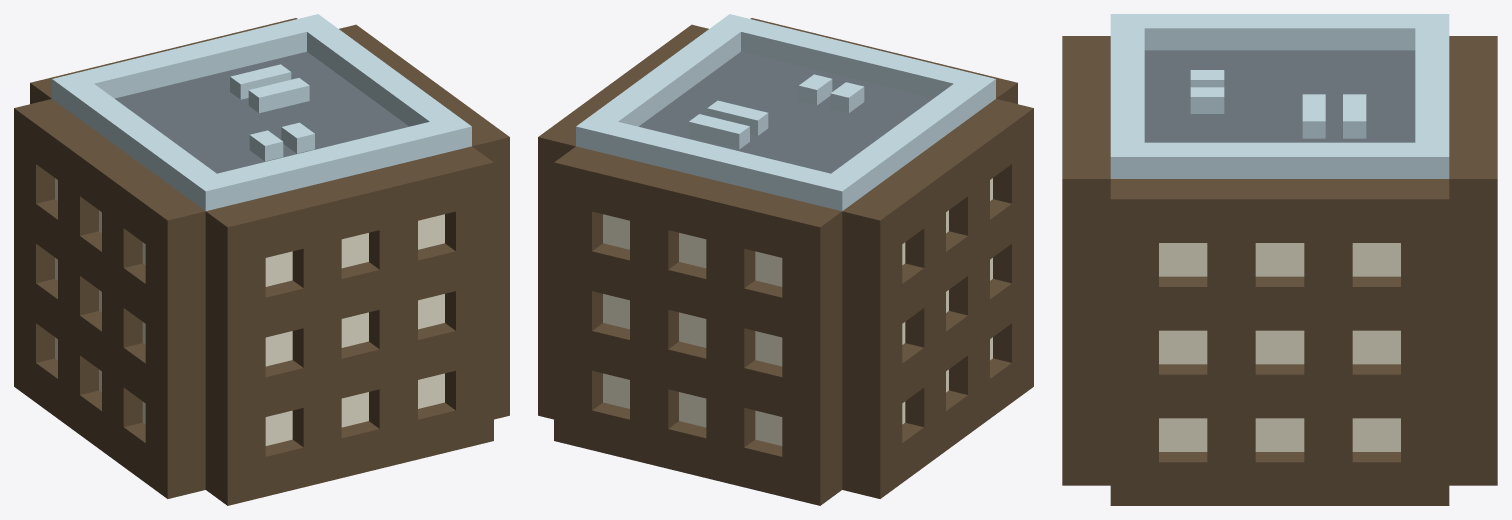
File: Building_1_Extra (Brown).obj
3 renders of one model, left to right at view 1: azimuth 30°, elevation 25°; view 2: azimuth 150°, elevation 25°; view 3: azimuth 270°, elevation 25°, orthographic. The views are drawn at different scales.
Visible parts, largest first — view 1: Building_1_Extra_(Brown); view 2: Building_1_Extra_(Brown); view 3: Building_1_Extra_(Brown).
Boxes of the visible parts, x1,y1,x2,y2 form: Building_1_Extra_(Brown): (14, 14, 509, 505); Building_1_Extra_(Brown): (538, 14, 1033, 505); Building_1_Extra_(Brown): (1062, 14, 1497, 505).
Size of the model in its own units: 1.8 by 1.5 by 1.8.
